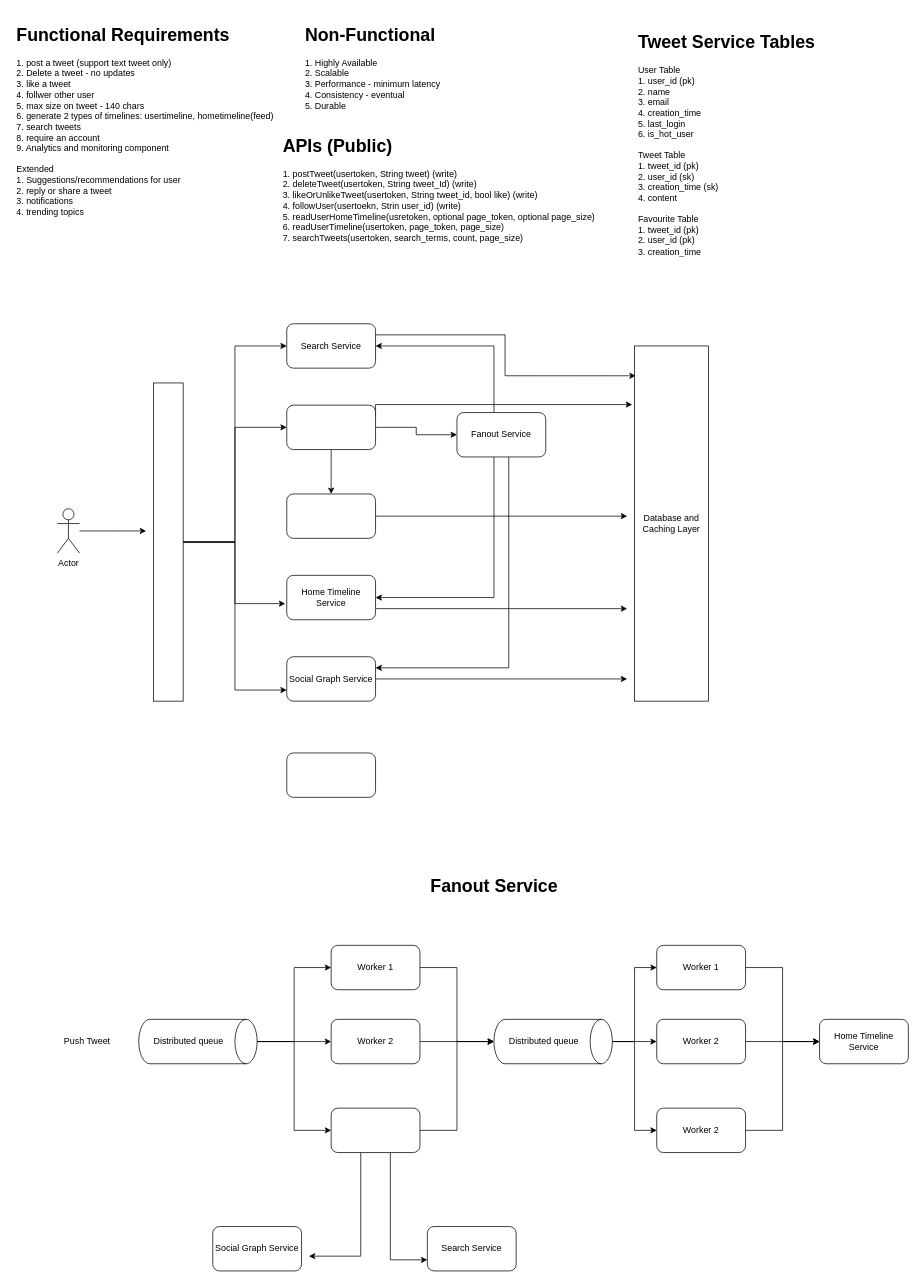
The diagram is 921 pixels wide and 1284 high, and some of its shapes have lost their labels. The shapes that lost their labels are listed below. From the top down, each one's centre as x and y in pixels, then its label:
At (x=331, y=427): "Tweet Service".
At (x=331, y=515): "User Timeline Service".
At (x=168, y=541): "LB".
At (x=331, y=774): "Analytics and Monitoring".
At (x=375, y=1130): "Worker 3".
